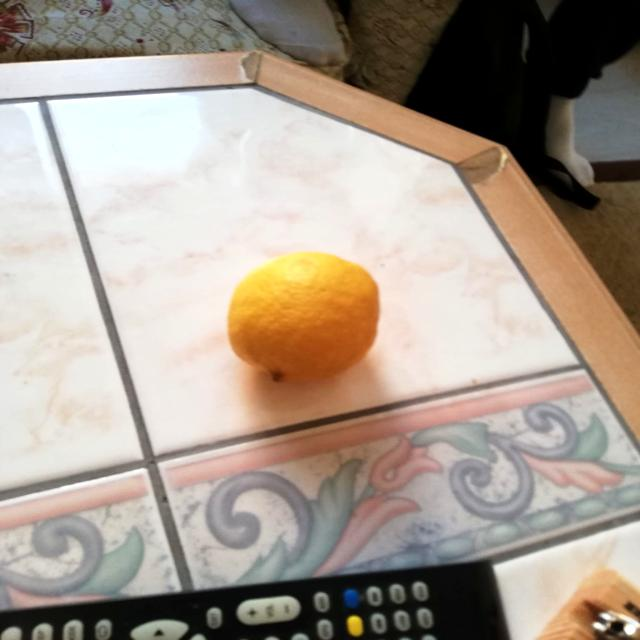lemon: (212, 248, 400, 391)
